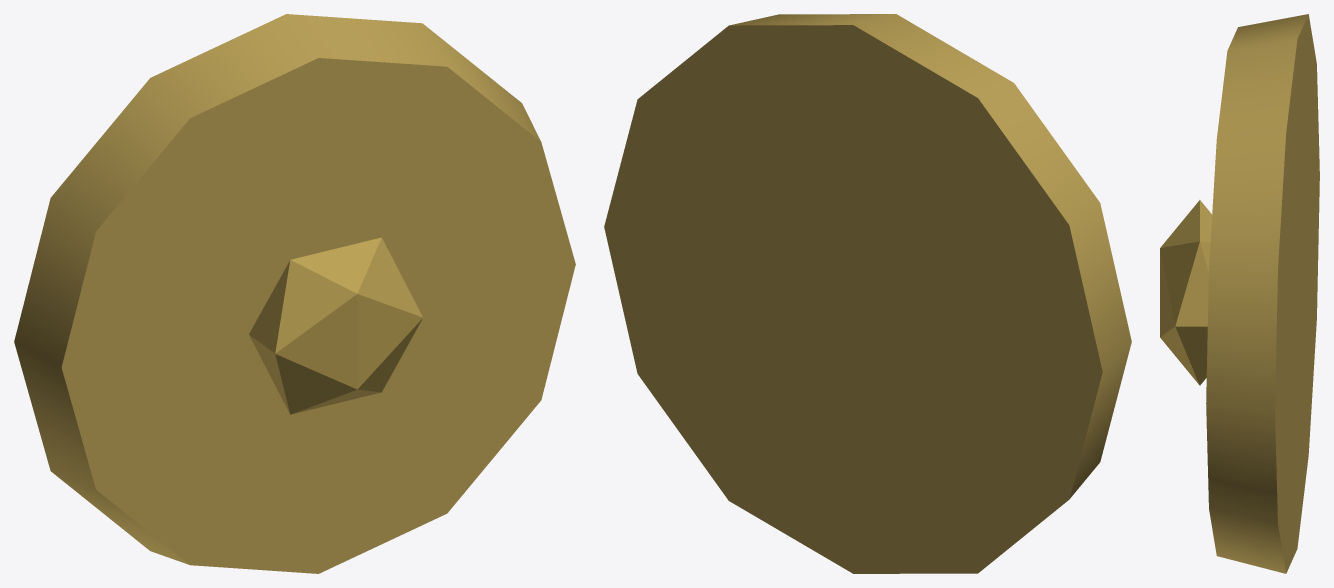
The model's file is off_02_star_guard.glb.
3 renders of one model, left to right at view 1: azimuth 30°, elevation 25°; view 2: azimuth 150°, elevation 25°; view 3: azimuth 270°, elevation 25°, orthographic. The views are drawn at different scales.
Visible parts, largest first — view 1: shield, shield_boss; view 2: shield; view 3: shield, shield_boss.
Part boxes in pixels (x1=…): shield: x1=14, y1=14, x2=575, y2=573; shield_boss: x1=249, y1=237, x2=423, y2=414; shield: x1=604, y1=14, x2=1131, y2=573; shield: x1=1206, y1=14, x2=1319, y2=573; shield_boss: x1=1160, y1=200, x2=1212, y2=385.
Size of the model in its own units: 0.7177 by 0.72 by 0.2047.
